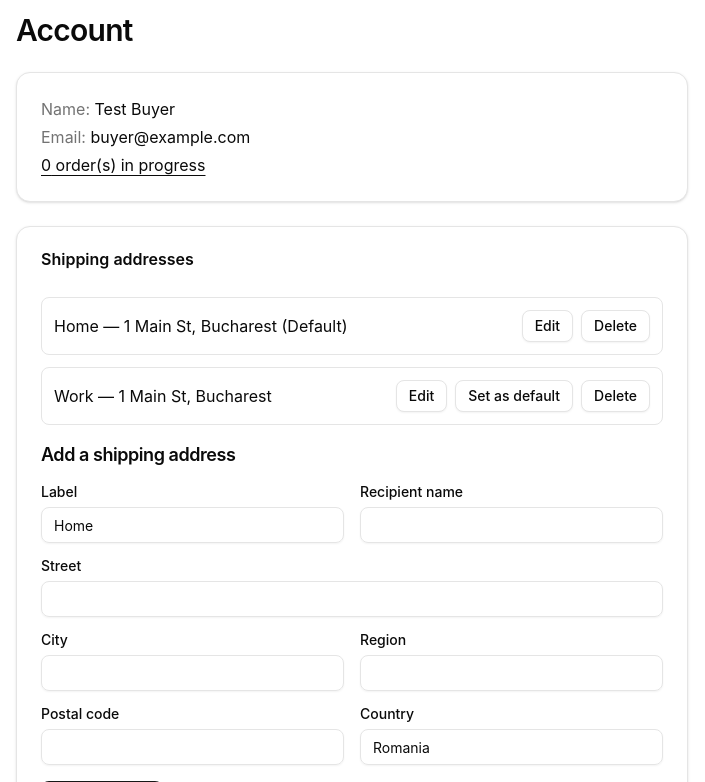
AccountPage › sets a non-default address as default
Expected: the text "Work — 1 Main St, Bucharest" is shown, [54,384,272,408]
Step 1. Click the button "Set as default" → coordinates (514, 396), box [455,380,573,412]
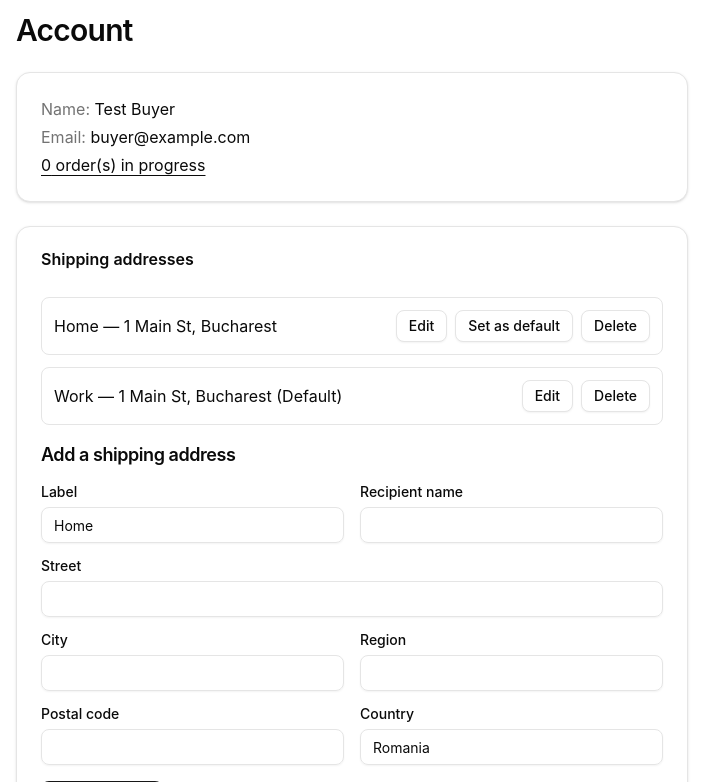
Expected: the text "Work — 1 Main St, Bucharest (Default)" is shown, [54,384,342,408]
